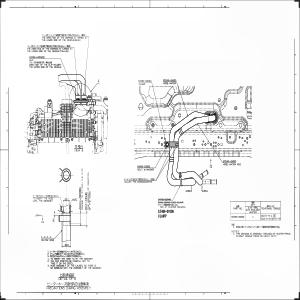PartNumber: (158, 209, 174, 214), (163, 78, 176, 82), (231, 216, 245, 219), (138, 79, 152, 82), (137, 165, 150, 168), (29, 56, 42, 58), (223, 160, 236, 162)
